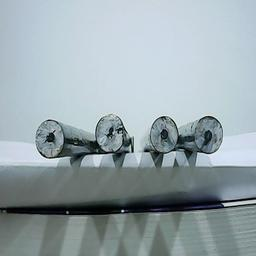pen: (94, 113, 126, 154), (195, 114, 226, 156), (149, 115, 180, 154), (35, 119, 65, 159)
